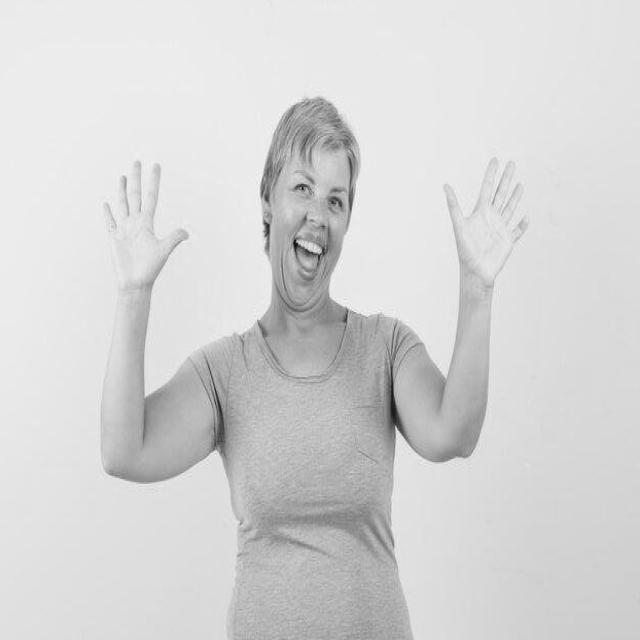stop: (98, 153, 194, 304), (441, 148, 534, 302)
